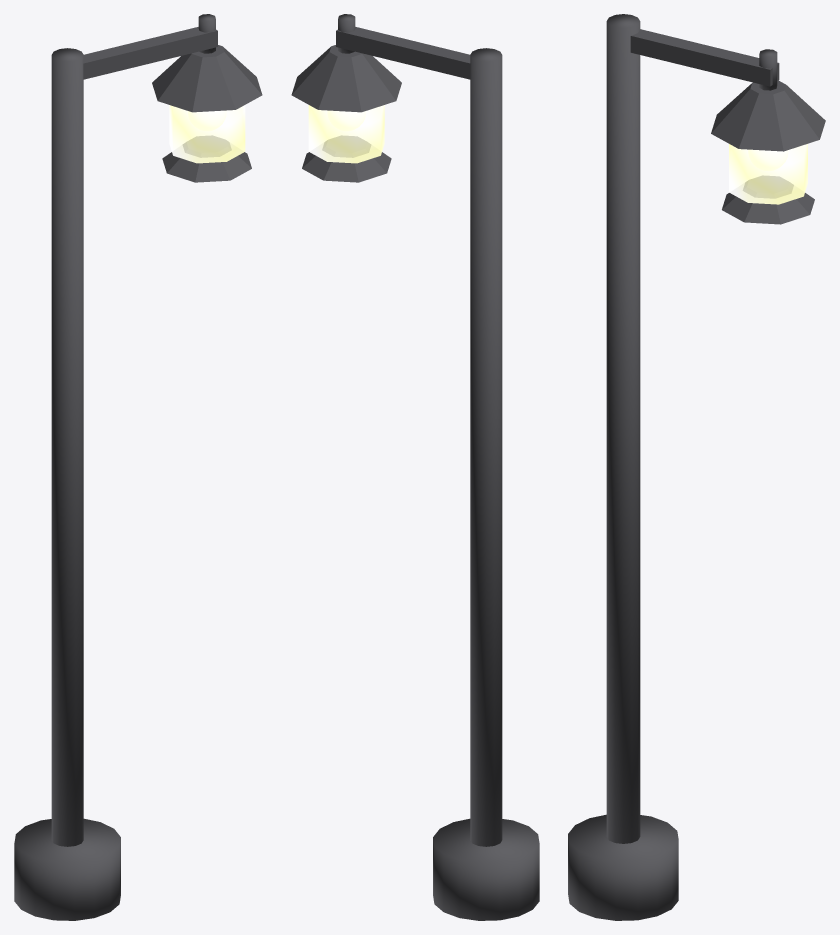
Rendered from sokak_lambasi.glb.
The picture shows the model from 3 angles, left to right: view 1: azimuth 30°, elevation 25°; view 2: azimuth 150°, elevation 25°; view 3: azimuth 330°, elevation 25°; orthographic projection. The views are drawn at different scales.
Parts seen in each view (by area): view 1: Pole, Base, LanternTop, LanternGlass, Arm, LanternBottom, Bulb; view 2: Pole, Base, LanternTop, LanternGlass, Arm, LanternBottom, Bulb; view 3: Pole, Base, LanternTop, LanternGlass, Arm, LanternBottom, Bulb.
Boxes of the visible parts, left/top/right/bottom form: Pole: left=51, top=48, right=83, bottom=846; Base: left=14, top=818, right=120, bottom=920; LanternTop: left=152, top=45, right=262, bottom=112; LanternGlass: left=169, top=105, right=245, bottom=163; Arm: left=83, top=27, right=217, bottom=79; LanternBottom: left=162, top=135, right=251, bottom=182; Bulb: left=188, top=111, right=226, bottom=130; Pole: left=470, top=48, right=502, bottom=846; Base: left=433, top=818, right=539, bottom=920; LanternTop: left=291, top=45, right=401, bottom=112; LanternGlass: left=308, top=105, right=384, bottom=163; Arm: left=336, top=27, right=470, bottom=79; LanternBottom: left=302, top=135, right=391, bottom=182; Bulb: left=327, top=111, right=365, bottom=130; Pole: left=606, top=14, right=640, bottom=843; Base: left=568, top=814, right=678, bottom=920; LanternTop: left=711, top=80, right=825, bottom=151; LanternGlass: left=729, top=144, right=807, bottom=204; Arm: left=630, top=29, right=779, bottom=86; LanternBottom: left=722, top=176, right=814, bottom=224; Bulb: left=748, top=150, right=788, bottom=170.
Bounding box in the file's own units: 0.76 × 2.61 × 0.32.
